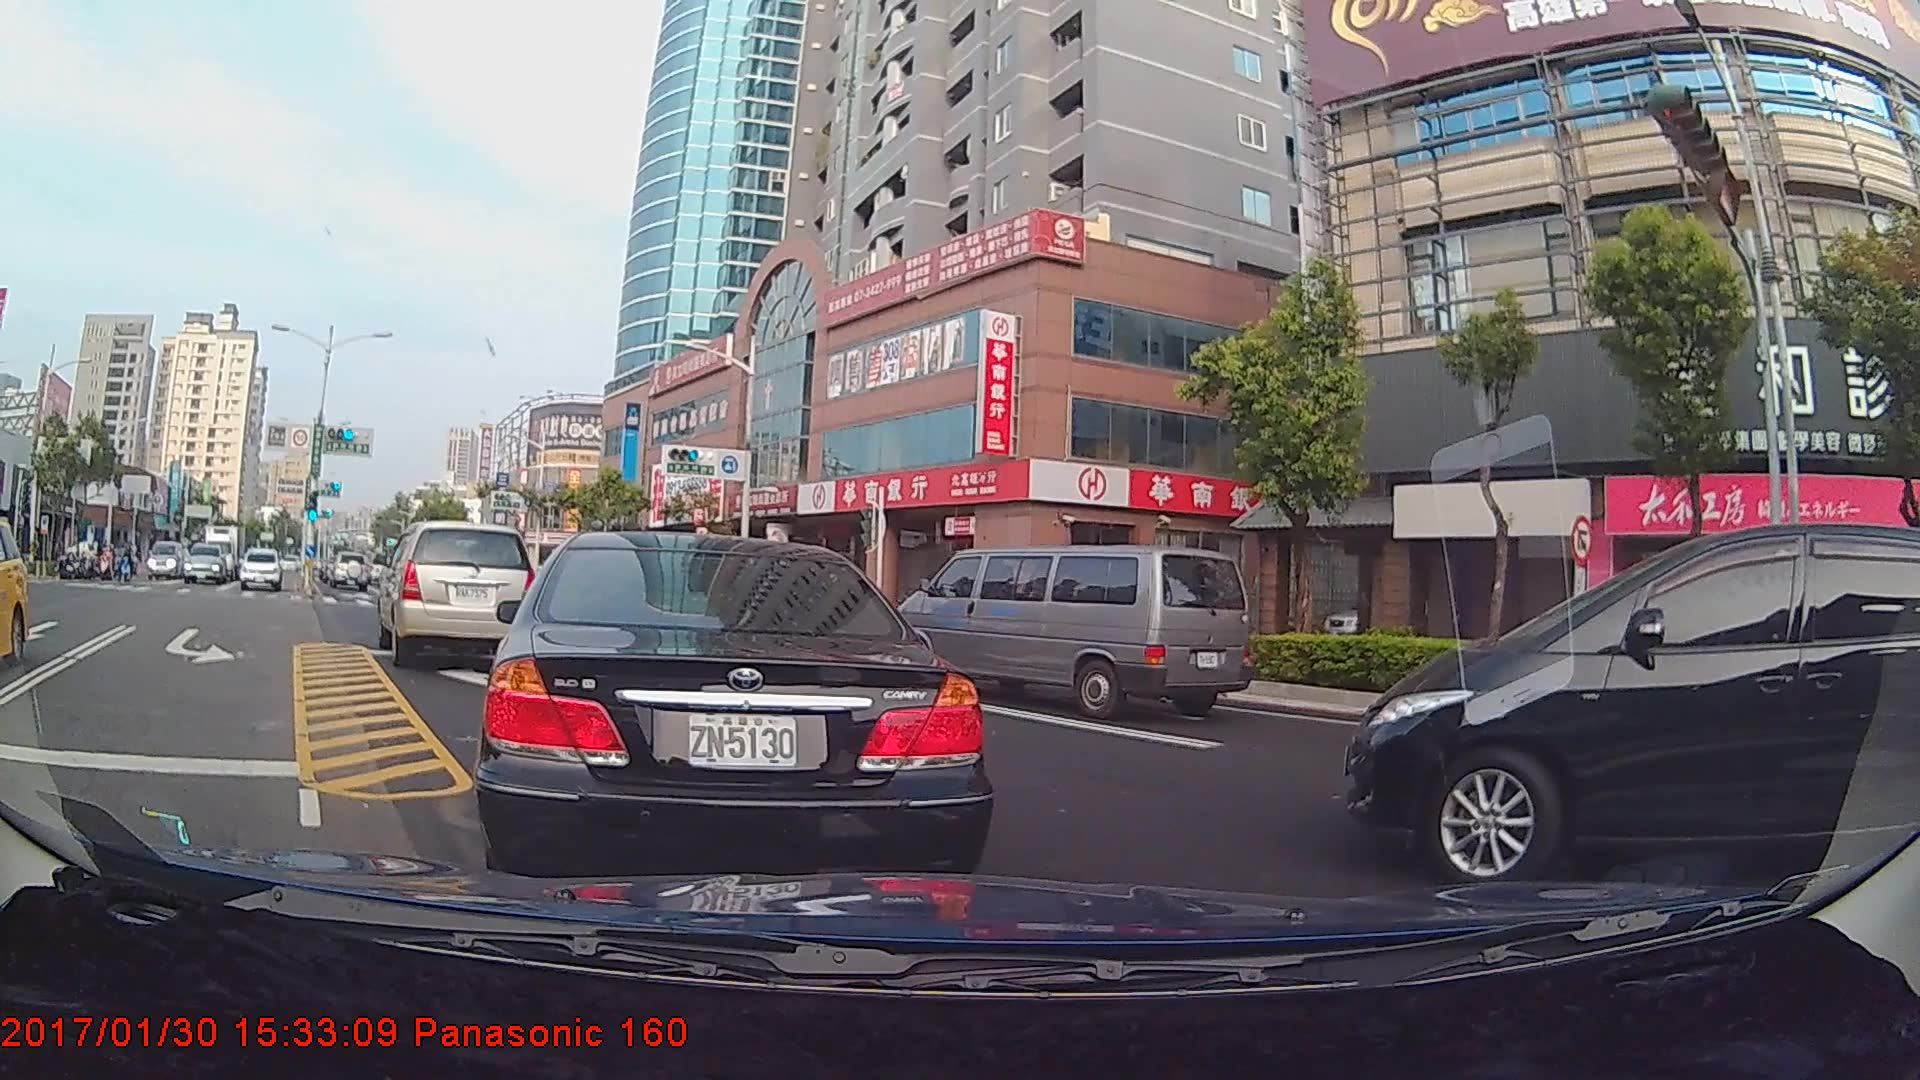vehicle: (1345, 521, 1903, 898), (489, 525, 985, 891), (891, 545, 1249, 727), (380, 520, 541, 667), (0, 526, 30, 663), (202, 522, 251, 568), (237, 546, 284, 592), (183, 542, 232, 585), (324, 550, 369, 591), (146, 539, 189, 582)
